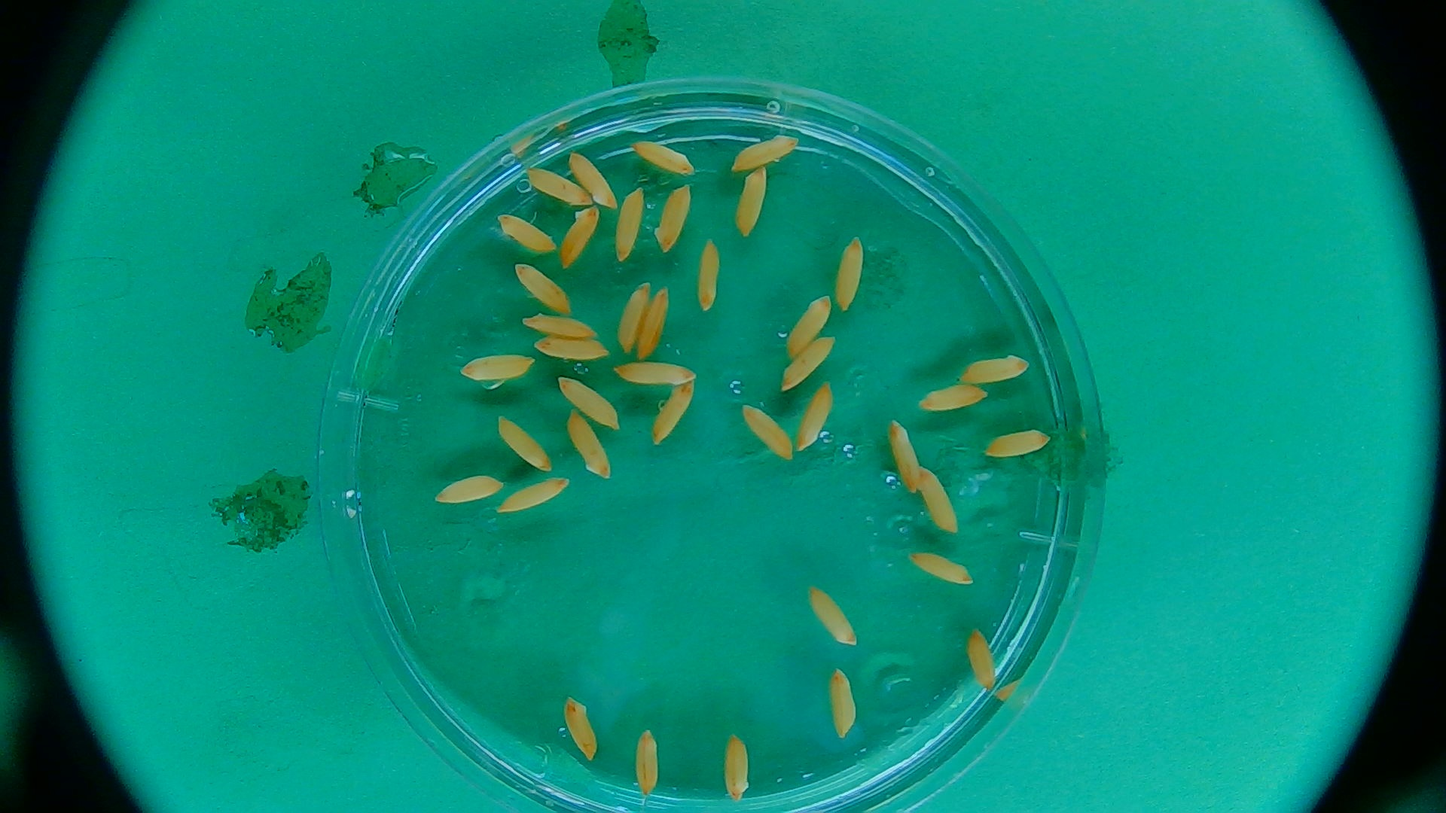no: (551, 364, 627, 434), (507, 258, 575, 321), (519, 163, 601, 214), (561, 146, 621, 213), (493, 209, 563, 263), (807, 580, 859, 650), (652, 385, 699, 460), (823, 658, 863, 745), (734, 404, 794, 462), (779, 333, 842, 388), (617, 356, 702, 396), (496, 416, 554, 474), (564, 411, 612, 480), (913, 540, 976, 592), (958, 346, 1034, 389), (728, 131, 804, 172), (688, 229, 725, 313), (654, 188, 699, 257), (715, 736, 759, 806), (889, 415, 926, 498), (560, 206, 609, 268), (915, 466, 961, 532), (795, 384, 837, 456), (556, 696, 599, 766), (627, 723, 664, 804), (787, 290, 827, 364), (514, 306, 599, 340), (616, 181, 651, 262), (834, 236, 868, 319), (636, 129, 697, 175), (914, 382, 996, 416), (614, 276, 649, 355), (735, 168, 773, 239), (985, 428, 1054, 467), (458, 352, 541, 381), (966, 632, 1002, 695), (435, 473, 504, 505), (528, 336, 613, 361), (502, 480, 572, 510), (642, 292, 667, 362)
